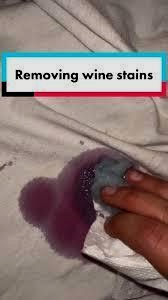wine: (26, 167, 84, 247), (46, 226, 77, 273), (59, 145, 99, 167)
